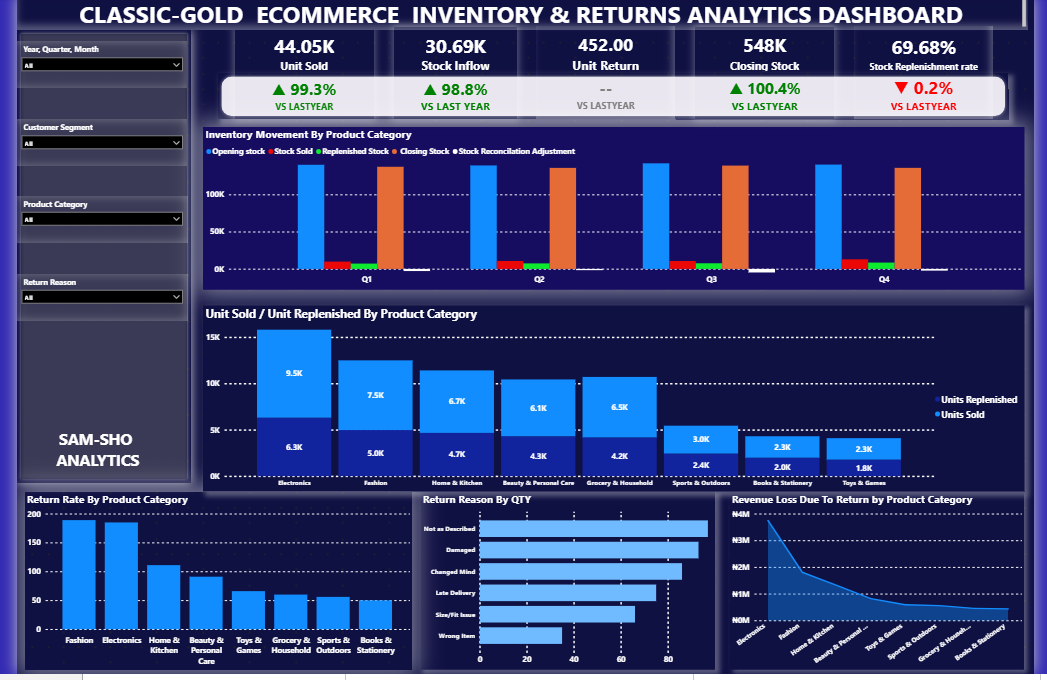

What the dashboard file says about the page in this screenshot:
{"tool":"powerbi","page":{"name":"INVENTORY & RETURN ANALYTICS ","canvas":[2650,1500],"ordinal":2},"visuals":[{"type":"shape","box":[0,64,352,928],"z":0},{"type":"shape","box":[720,168,1632,96],"z":0,"group":"g1"},{"type":"clusteredColumnChart","title":"Inventory Movement  By Product Category","fields":{"Y":["Sum(inventory_monthly.opening_stock_units)","Sum(inventory_monthly.units_sold_recorded)","Sum(inventory_monthly.units_replenished)","Sum(inventory_monthly.closing_stock_units)","Sum(inventory_monthly.Stock_Reconcilation_Adjustment)"],"Category":["Calendar.Quarter"]},"box":[384,288,2240,320],"z":1000},{"type":"textbox","box":[-6,0,2656,64],"z":2000},{"type":"cardVisual","fields":{"Data":["inventory_monthly.Total  Qty sold","inventory_monthly.Qtysold_GrowthIndicator"]},"box":[752,72,288,192],"z":2000,"group":"g1"},{"type":"stackedAreaChart","title":"Revenue Loss Due To  Return by Product Category","fields":{"Category":["products.category"],"Y":["returns.Total_Return_Value"]},"box":[1792,1024,832,448],"z":3000},{"type":"slicer","fields":{"Values":["Calendar.Year","Calendar.Quarter","Calendar.Month"]},"box":[0,96,352,96],"z":4000},{"type":"cardVisual","fields":{"Data":["returns.Stock_inflow","inventory_monthly.stock_inflowgrowthindicator"]},"box":[1080,72,256,192],"z":5000,"group":"g1"},{"type":"slicer","fields":{"Values":["products.category"]},"box":[0,416,352,96],"z":5000},{"type":"clusteredBarChart","title":"Return Reason By QTY","fields":{"Category":["returns.return_reason"],"Y":["returns.Total_Return"]},"box":[928,1024,832,448],"z":6000},{"type":"cardVisual","fields":{"Data":["inventory_monthly.Total_Closing_stock","inventory_monthly.Closingstockgrowthindicator"]},"box":[1704,72,288,192],"z":7000,"group":"g1"},{"type":"slicer","title":"wwww","fields":{"Values":["customers.customer_segment"]},"box":[0,256,352,96],"z":7000},{"type":"slicer","fields":{"Values":["returns.return_reason"]},"box":[0,576,352,96],"z":8000},{"type":"columnChart","title":"Return Rate By Product Category","fields":{"Category":["products.category"],"Y":["returns.Total_Return"]},"box":[32,1024,864,448],"z":9000},{"type":"columnChart","title":"Unit Sold / Unit Replenished By Product Category","fields":{"Category":["products.category"],"Y":["Sum(inventory_monthly.units_replenished)","Sum(inventory_monthly.units_sold_recorded)"]},"box":[384,608,2240,384],"z":10000},{"type":"textbox","box":[64,736,224,96],"z":11000},{"type":"group","id":"g1","title":"Group 1","box":[720,72,1632,192],"z":12000},{"type":"cardVisual","fields":{"Data":["returns.Total_Return","returns.Return_Growthindicator"]},"box":[1376,72,288,192],"z":13000,"group":"g1"},{"type":"cardVisual","fields":{"Data":["inventory_monthly.Stock_Replenishment_rate","inventory_monthly.stk_repl_growth_indicator"]},"box":[2032,72,288,192],"z":18000,"group":"g1"}]}

Visuals, with their boxes on the page's 2650x1500 design canvas (x1, y1, x2, y2). These are canvas units, not pixel positions in the 1047x680 screenshot, which may show the page scaled, cropped or inside an application window:
shape: box=[0, 64, 352, 992]
shape: box=[720, 168, 2352, 264]
"Inventory Movement  By Product Category" clusteredColumnChart: box=[384, 288, 2624, 608]
textbox: box=[-6, 0, 2650, 64]
cardVisual - inventory_monthly.Total  Qty sold x inventory_monthly.Qtysold_GrowthIndicator: box=[752, 72, 1040, 264]
"Revenue Loss Due To  Return by Product Category" stackedAreaChart: box=[1792, 1024, 2624, 1472]
slicer - Calendar.Year x Calendar.Quarter: box=[0, 96, 352, 192]
cardVisual - returns.Stock_inflow x inventory_monthly.stock_inflowgrowthindicator: box=[1080, 72, 1336, 264]
slicer - products.category: box=[0, 416, 352, 512]
"Return Reason By QTY" clusteredBarChart: box=[928, 1024, 1760, 1472]
cardVisual - inventory_monthly.Total_Closing_stock x inventory_monthly.Closingstockgrowthindicator: box=[1704, 72, 1992, 264]
"wwww" slicer: box=[0, 256, 352, 352]
slicer - returns.return_reason: box=[0, 576, 352, 672]
"Return Rate By Product Category" columnChart: box=[32, 1024, 896, 1472]
"Unit Sold / Unit Replenished By Product Category" columnChart: box=[384, 608, 2624, 992]
textbox: box=[64, 736, 288, 832]
"Group 1" group: box=[720, 72, 2352, 264]
cardVisual - returns.Total_Return x returns.Return_Growthindicator: box=[1376, 72, 1664, 264]
cardVisual - inventory_monthly.Stock_Replenishment_rate x inventory_monthly.stk_repl_growth_indicator: box=[2032, 72, 2320, 264]
